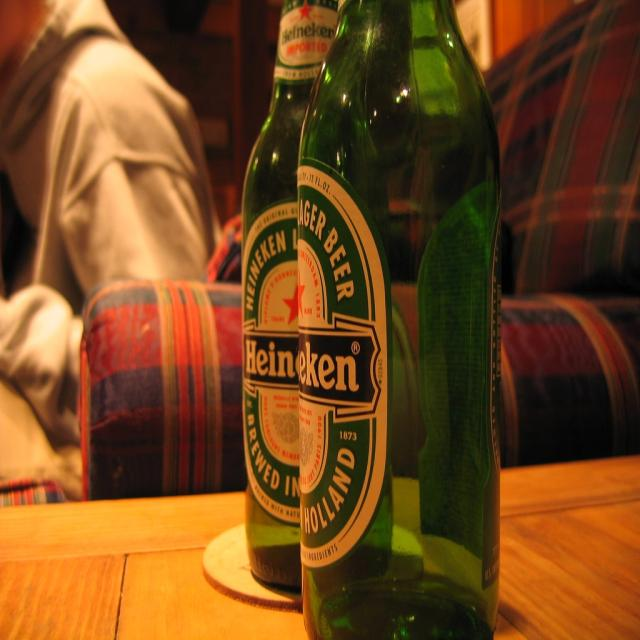heineken: (297, 167, 389, 568), (242, 201, 301, 527)
